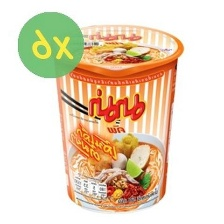paper_cup: (48, 21, 189, 214)
